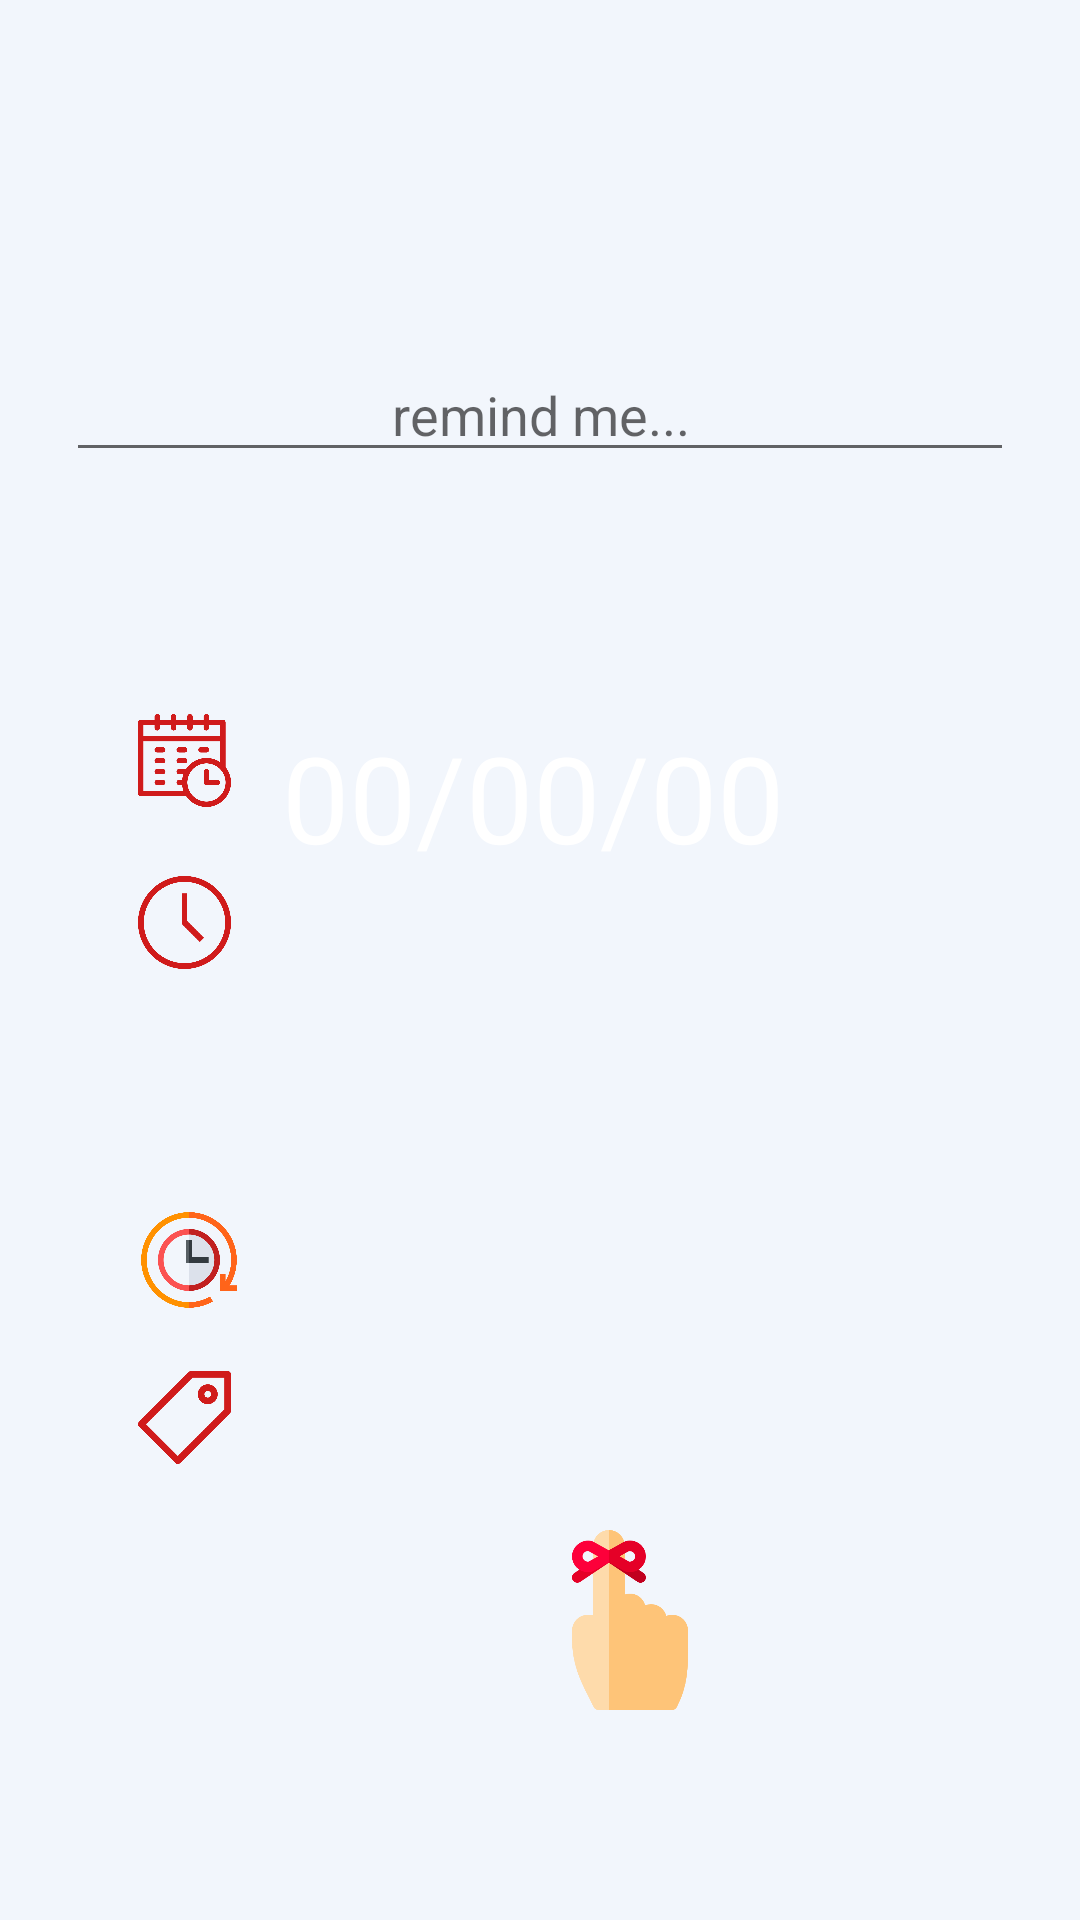

Point at icon controls on the screen. Image size 1080x1920, points as [x,y].
calendar: [184,760]
clock: [184,922]
repeat: [189,1260]
tagicon: [184,1417]
